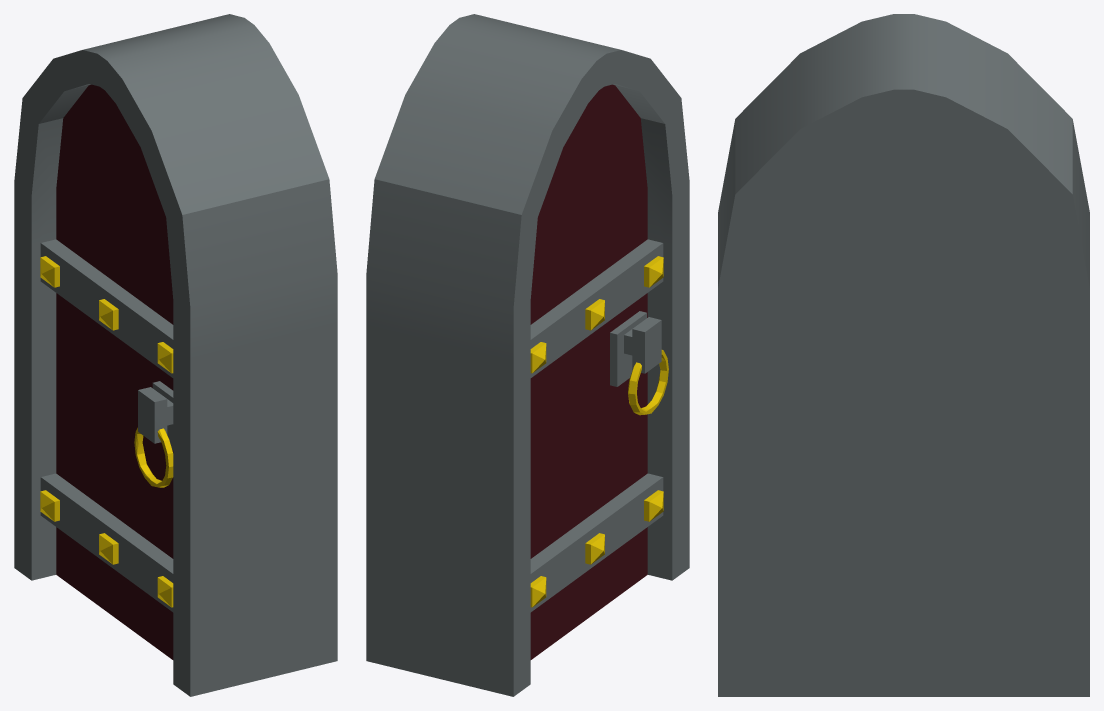
File: Drzwi pojedyncze.fbx
3 views of the same model, side by side, from view 1: azimuth 30°, elevation 25°; view 2: azimuth 150°, elevation 25°; view 3: azimuth 270°, elevation 25° (orthographic). The views are drawn at different scales.
Parts seen in each view (by area): view 1: Boole; view 2: Boole; view 3: Boole.
Boxes of the visible parts, x1,y1,x2,y2 form: Boole: (14,14,337,696); Boole: (366,14,689,696); Boole: (718,14,1089,696).
Size of the model in its own units: 61.62 by 224 by 124.
